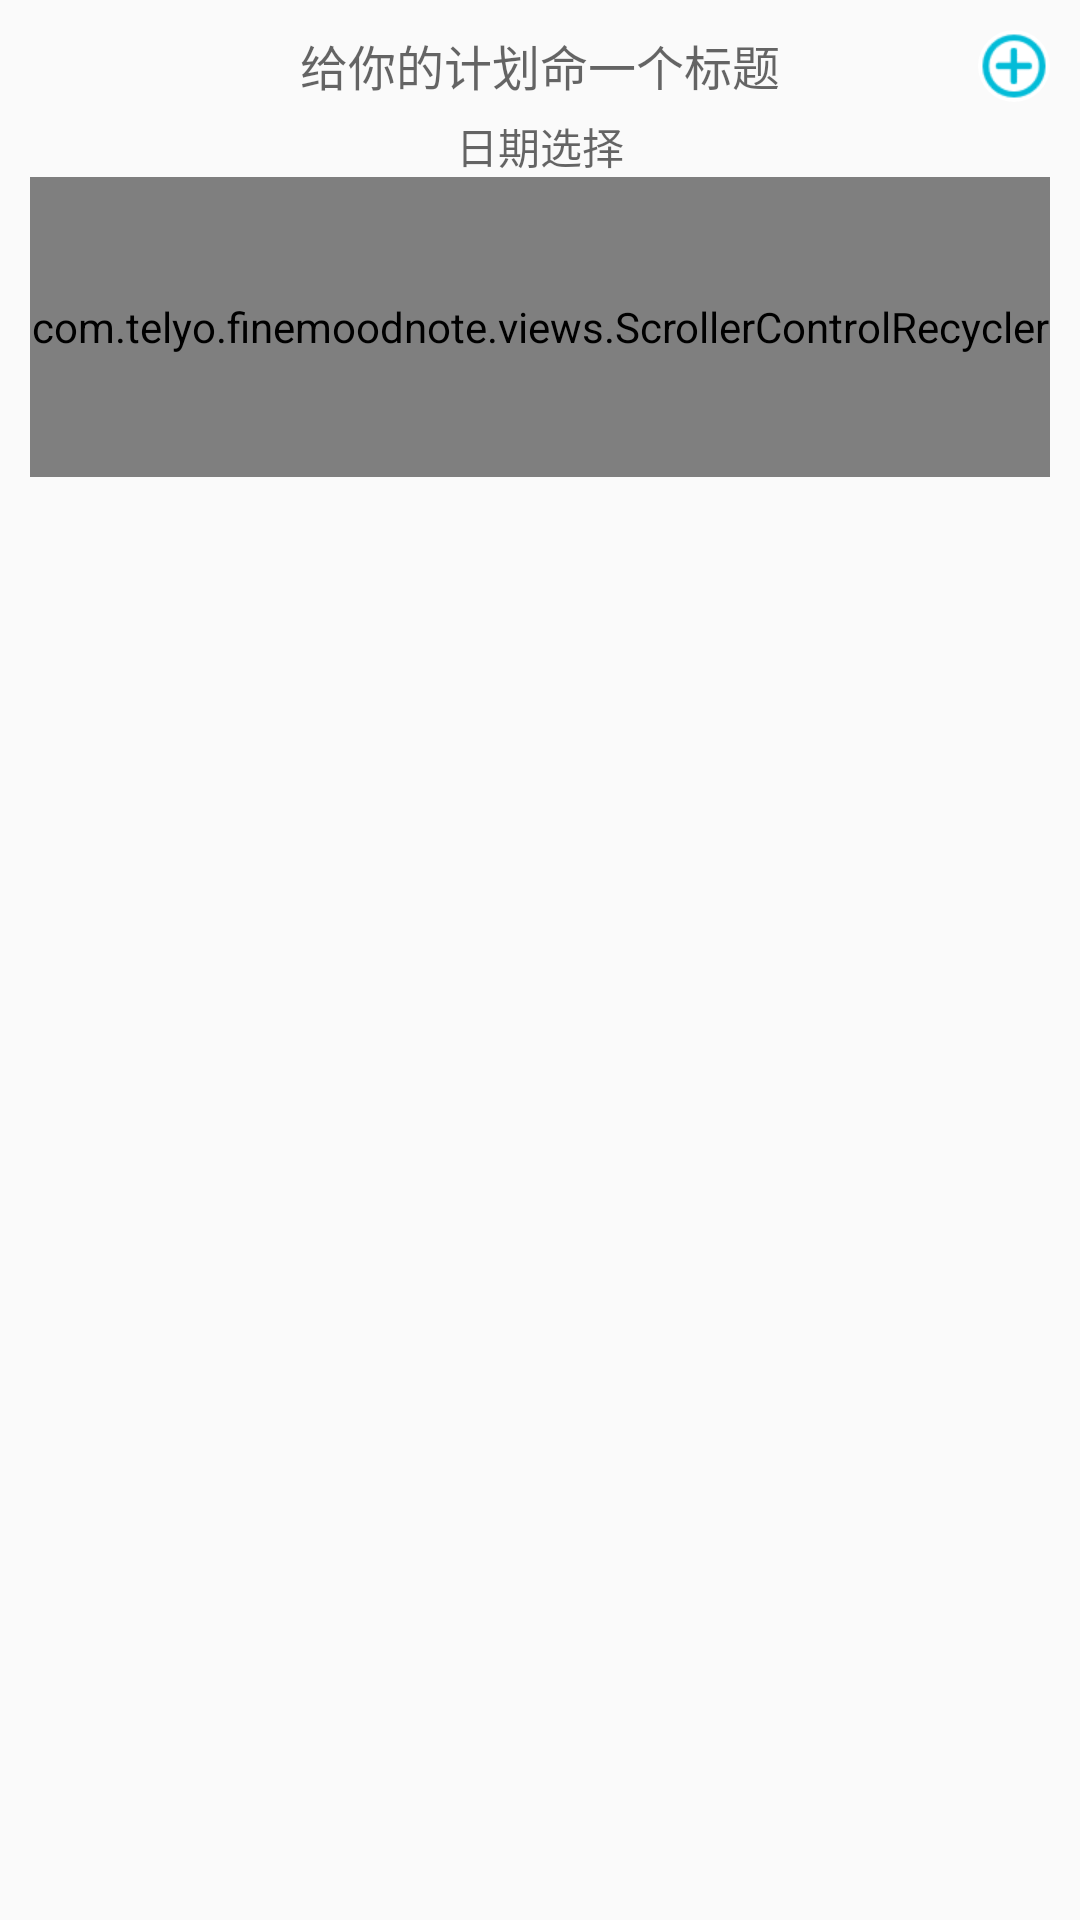

Icons on this 1080 × 1920 Android screen, each with the point to tap as point (x, y):
add: point (1014, 66)
